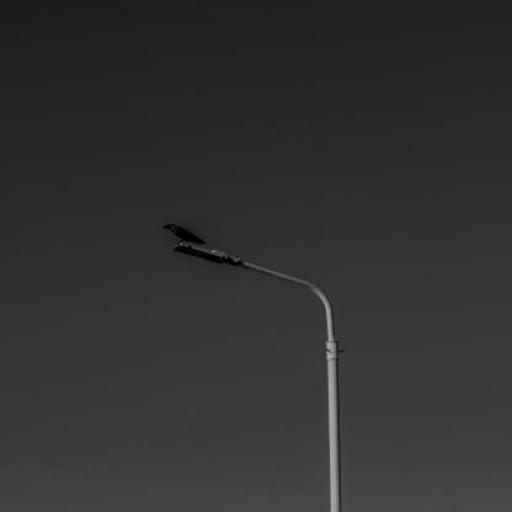street light: (171, 242, 343, 512)
